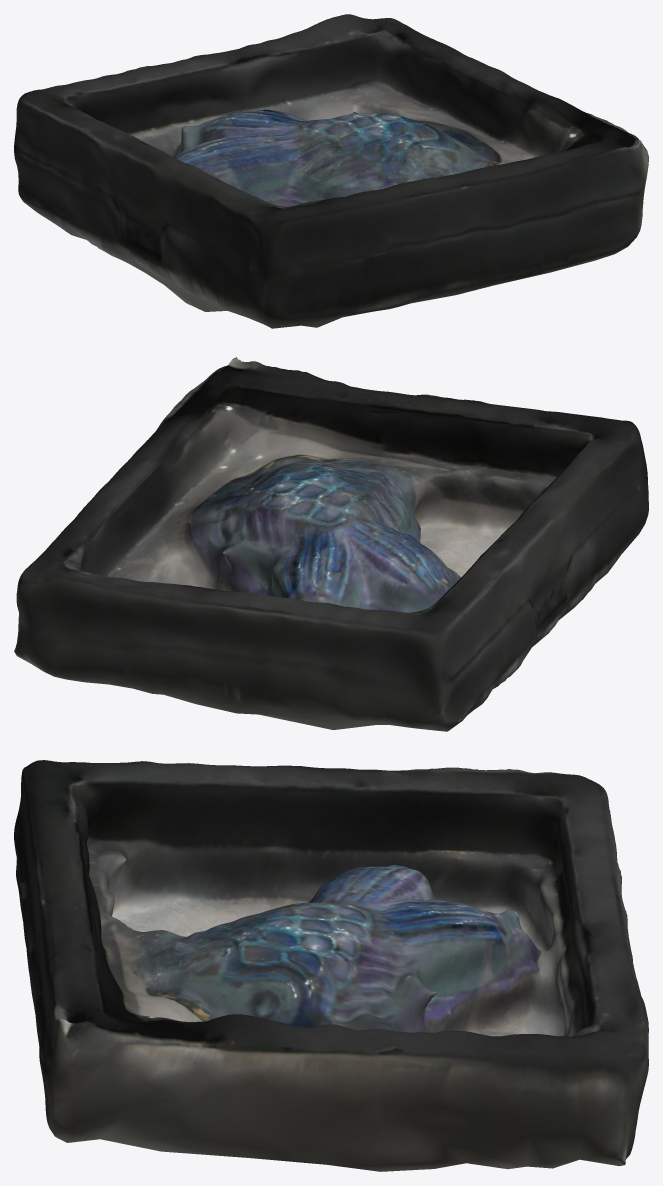
3 views of the same model, one above another, from view 1: azimuth 30°, elevation 25°; view 2: azimuth 150°, elevation 25°; view 3: azimuth 270°, elevation 25° (orthographic). The views are drawn at different scales.
Bounding box in the file's own units: 0.671 × 0.2873 × 0.6655.
Materials: 1 (1 with a texture image).
